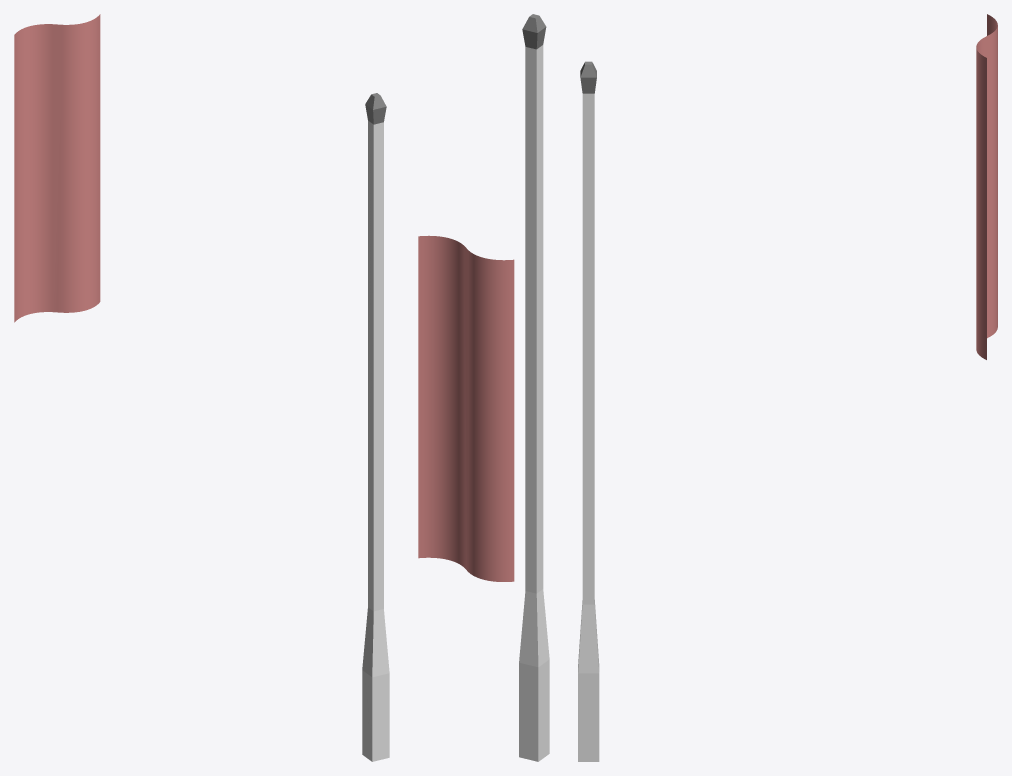
File: flagRed.glb
The picture shows the model from 3 angles, left to right: view 1: azimuth 30°, elevation 25°; view 2: azimuth 150°, elevation 25°; view 3: azimuth 270°, elevation 25°; orthographic projection. The views are drawn at different scales.
Visible parts, largest first — view 1: flagRed(Clone), Group; view 2: flagRed(Clone), Group; view 3: Group, flagRed(Clone).
Part boxes in pixels (<box>): flagRed(Clone): <box>14,14,100,322</box>; Group: <box>362,93,389,761</box>; flagRed(Clone): <box>418,235,514,581</box>; Group: <box>519,14,549,761</box>; Group: <box>578,61,599,761</box>; flagRed(Clone): <box>976,14,997,359</box>.
Bounding box in the file's own units: 0.3572 × 1.25 × 0.6848.
